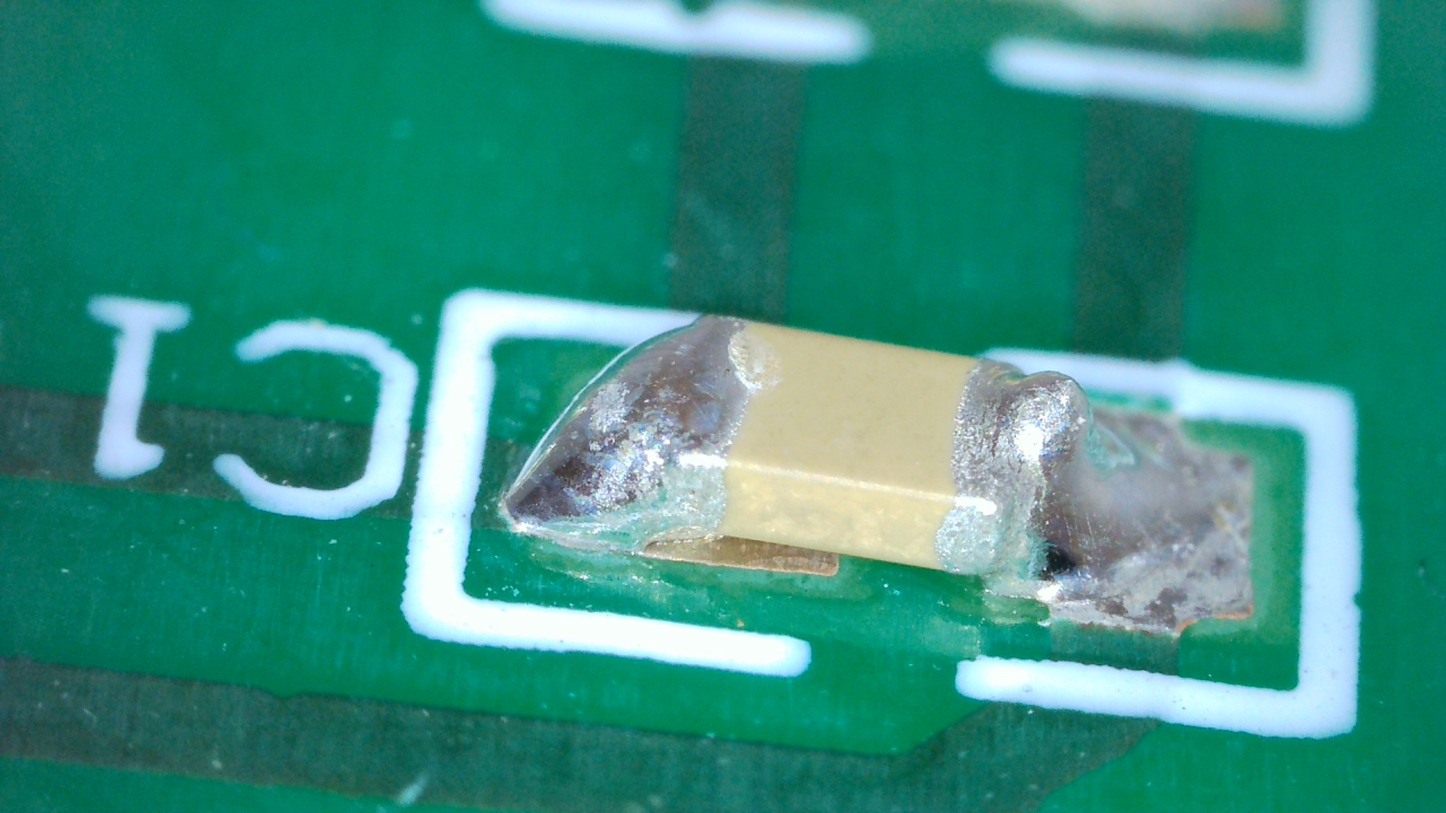NG: (960, 363, 1249, 635), (507, 313, 747, 551), (986, 373, 1091, 509)
